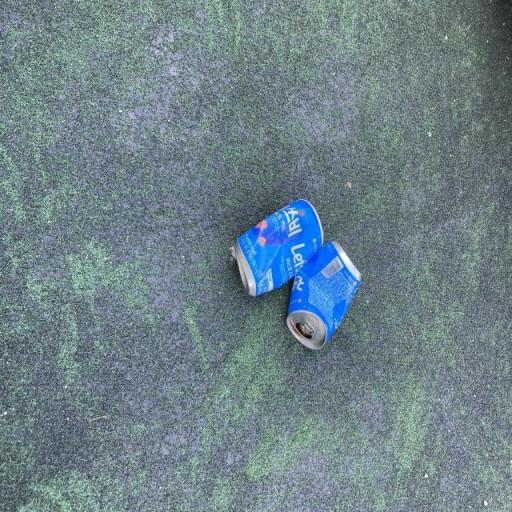metal: (220, 200, 339, 324), (266, 242, 380, 361)
